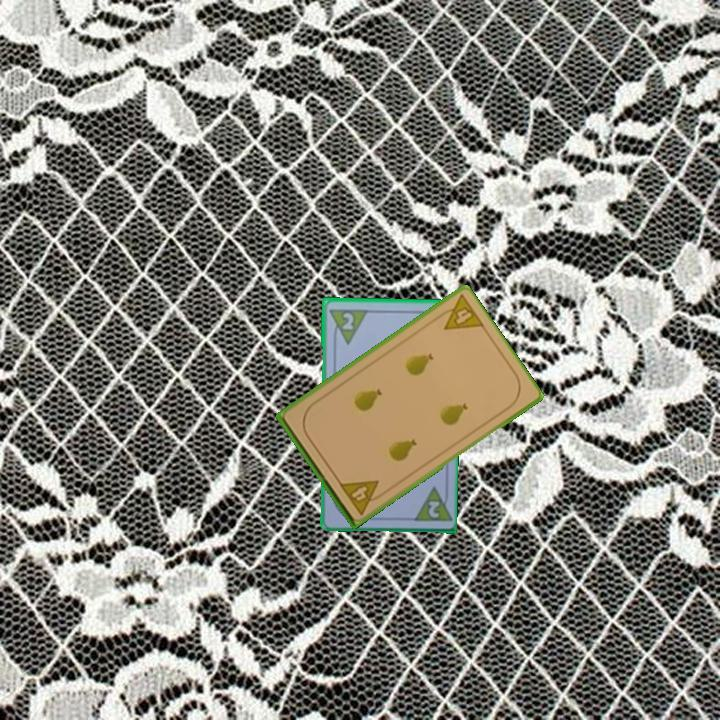2p: (325, 305, 370, 346), (425, 497, 442, 521)
4p: (431, 291, 487, 333), (336, 476, 388, 518)
